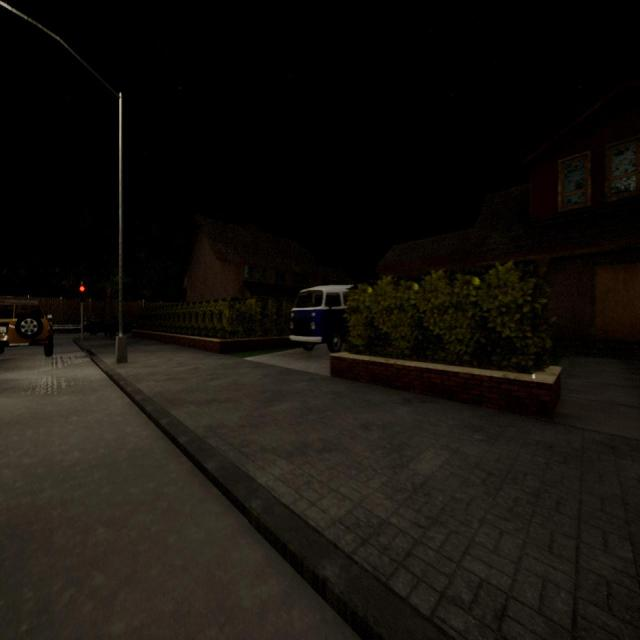Vehicle: (288, 285, 353, 352), (0, 294, 55, 358)
traffic_light: (79, 285, 85, 302)
